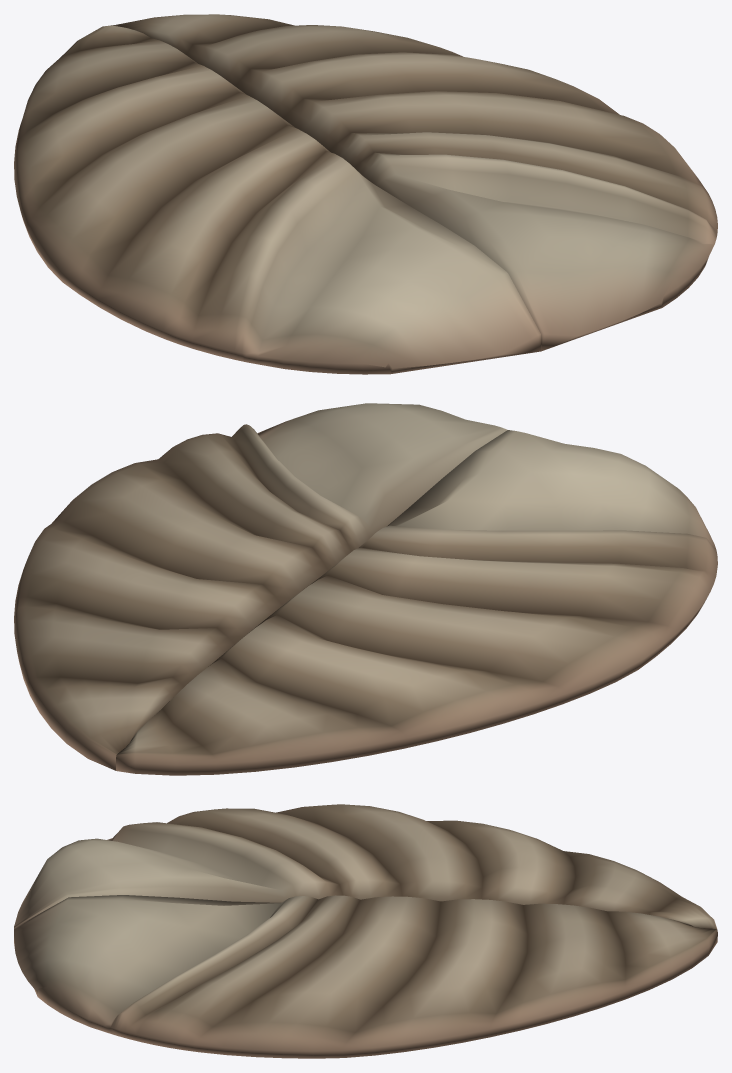
Rendered from Praecambridium.fbx.
The picture shows the model from 3 angles, top to bottom: view 1: azimuth 30°, elevation 25°; view 2: azimuth 150°, elevation 25°; view 3: azimuth 270°, elevation 25°; orthographic projection. The views are drawn at different scales.
Visible parts, largest first — view 1: Praecambridium; view 2: Praecambridium; view 3: Praecambridium.
Part boxes in pixels (x1,y1,x2,y2): Praecambridium: (14, 14, 717, 374); Praecambridium: (14, 403, 717, 775); Praecambridium: (14, 804, 717, 1058).
Bounding box in the file's own units: 1.24 × 0.1327 × 1.56.
